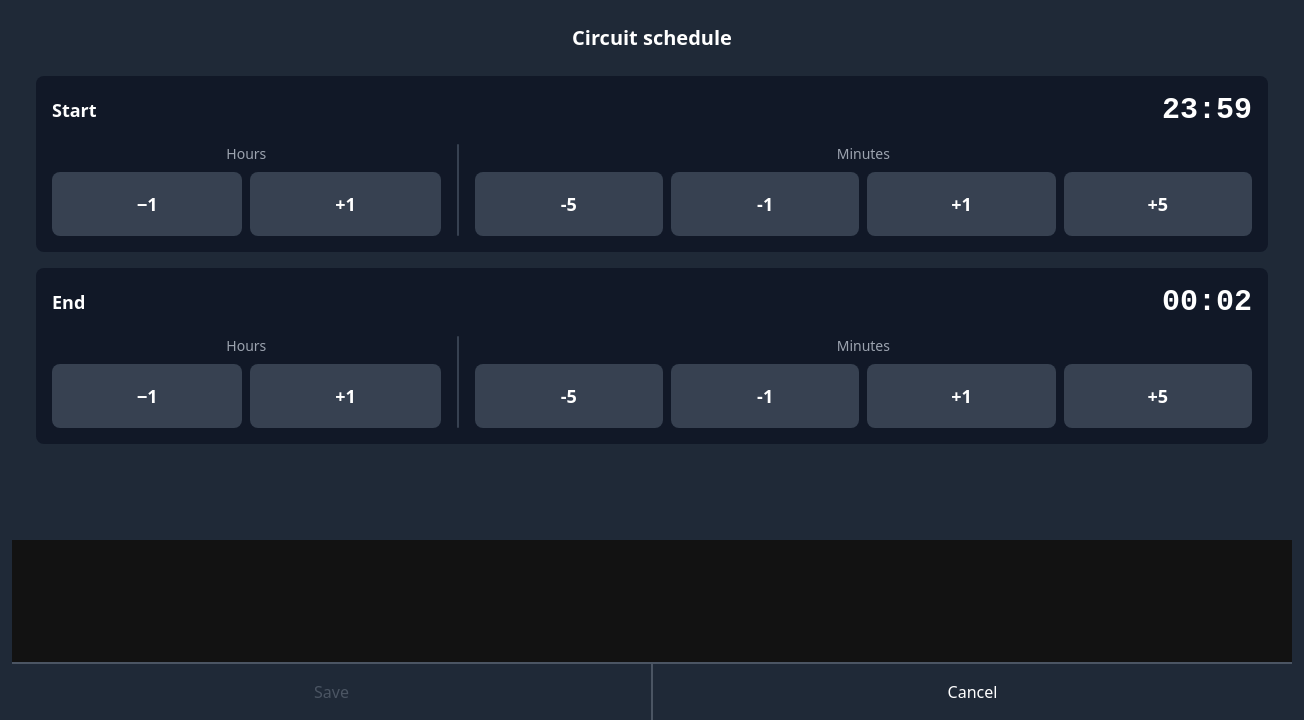
TimeRangeScheduleBody › wraps fields independently without carrying minutes into hours
Click the button named "Increase start minutes by 1" at coordinates (961, 204), box [867, 172, 1056, 236]
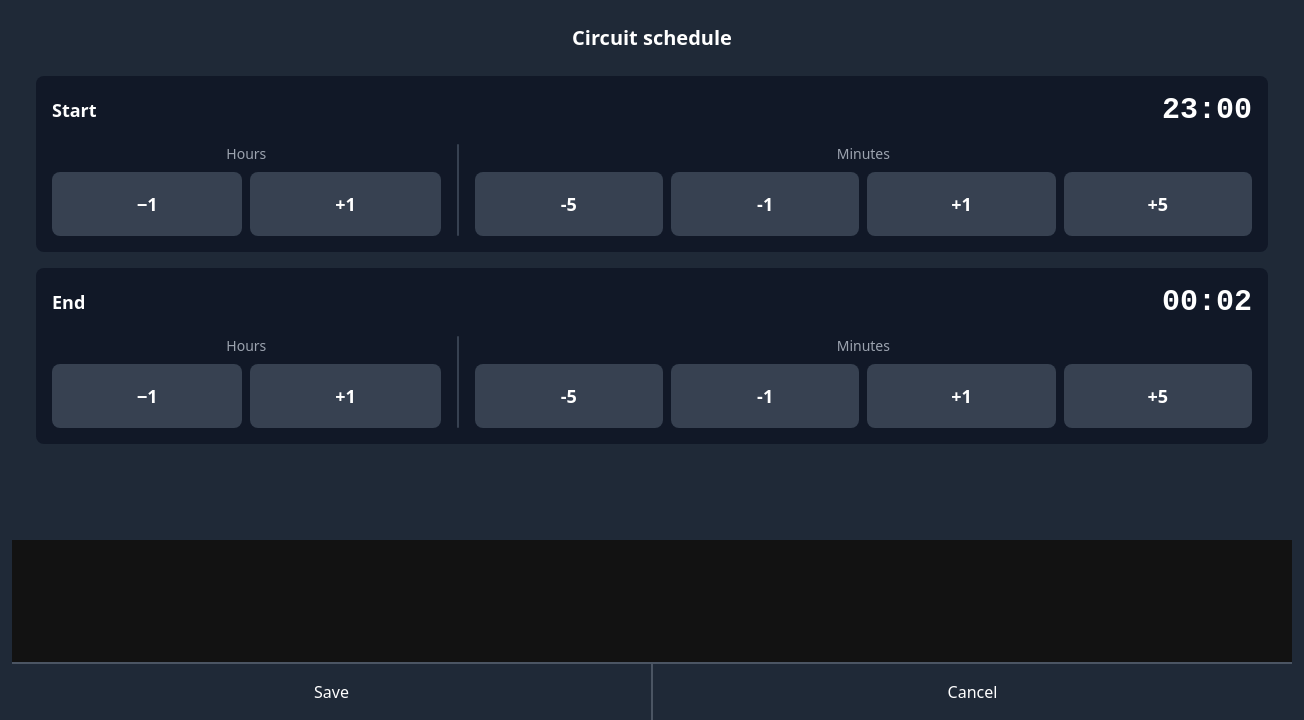
Check: the text named "Start time" reads "23:00", box [1162, 93, 1252, 127]
Click the button named "Increase start hour" at coordinates (345, 204), box [250, 172, 441, 236]
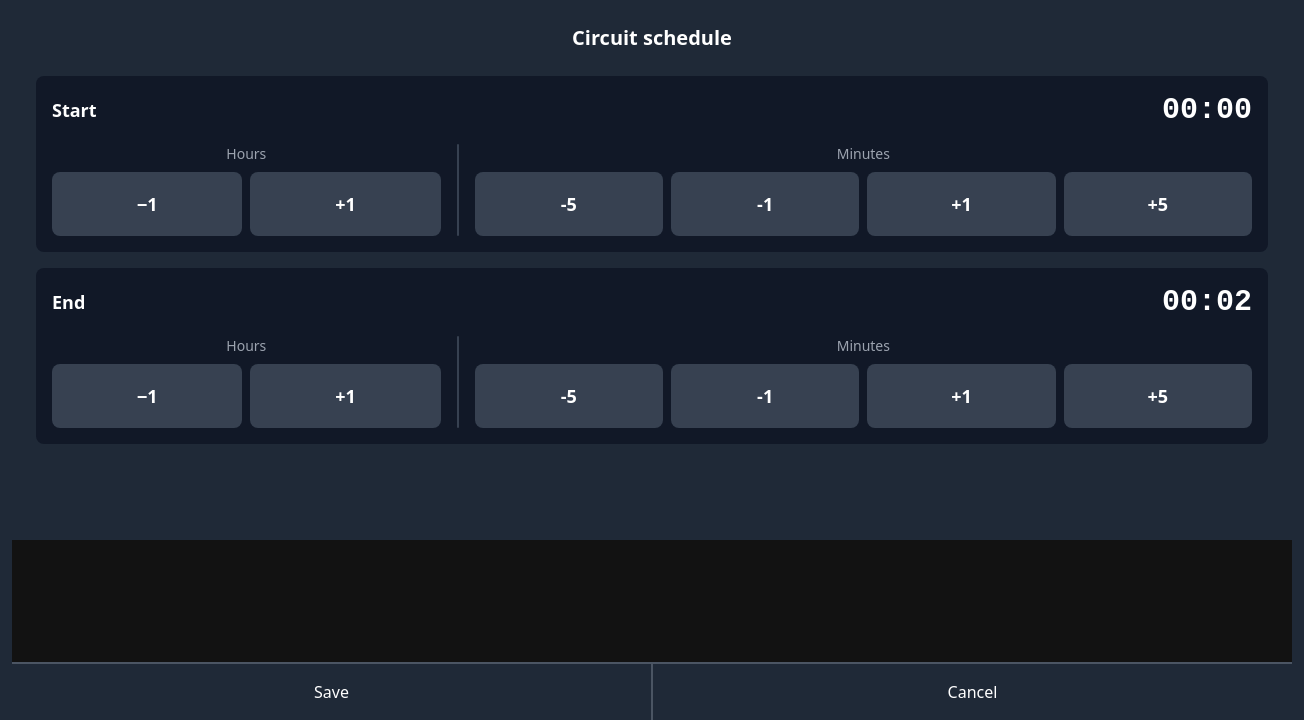
Check: the text named "Start time" reads "00:00", box [1162, 93, 1252, 127]
Click the button named "Decrease end minutes by 5" at coordinates (569, 396), box [475, 364, 663, 428]
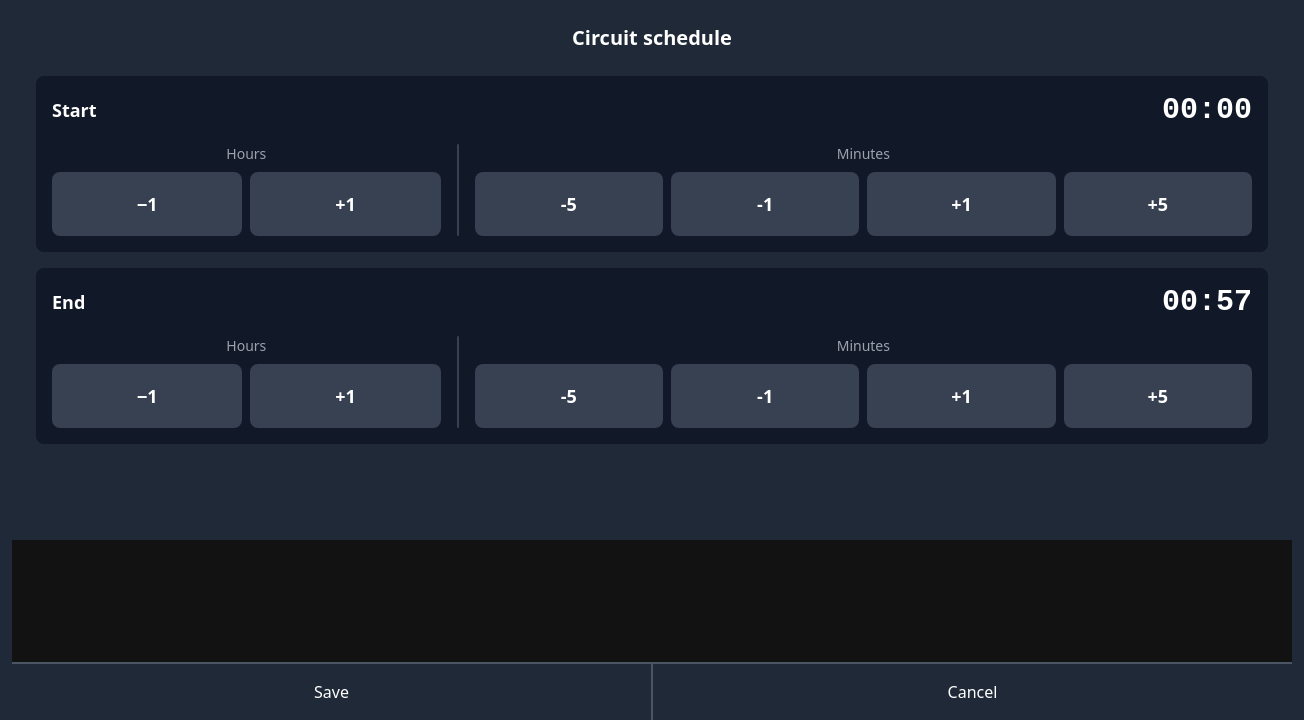
Check: the text named "End time" reads "00:57", box [1162, 285, 1252, 319]
